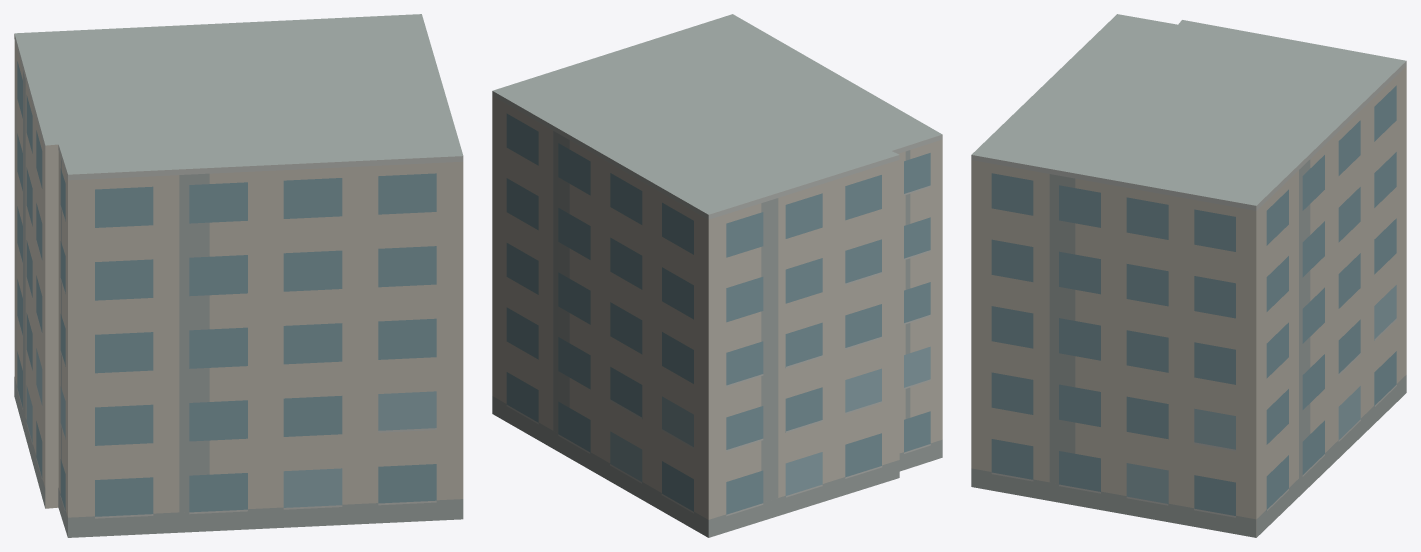
Rendered from survey-upis-32889814.glb.
3 views of the same model, side by side, from view 1: azimuth 30°, elevation 25°; view 2: azimuth 150°, elevation 25°; view 3: azimuth 270°, elevation 25° (orthographic). The views are drawn at different scales.
Visible parts, largest first — view 1: survey-upis-32889814.tmp; view 2: survey-upis-32889814.tmp; view 3: survey-upis-32889814.tmp.
Boxes of the visible parts, x1,y1,x2,y2 form: survey-upis-32889814.tmp: (14, 14, 463, 537); survey-upis-32889814.tmp: (492, 14, 942, 537); survey-upis-32889814.tmp: (971, 14, 1406, 537).
Size of the model in its own units: 19.59 by 15.8 by 18.78.
